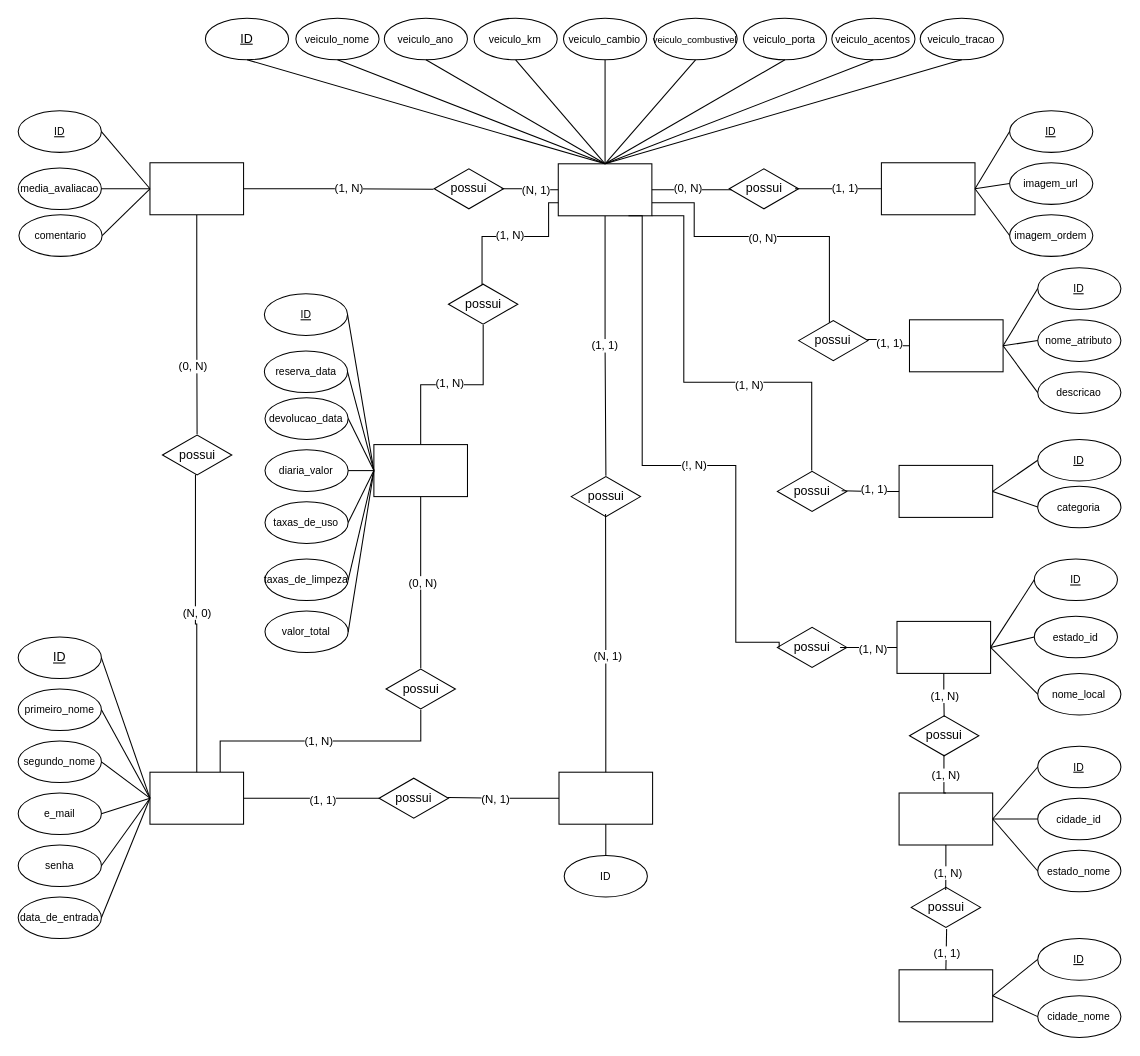
Some shapes in this 1140 by 1056 pixel diagram are drawn without their labels. The shapes that lost their labels are listed below. From the top down, each one's box as (x1, y1, x2, y2) in pixels, then its label:
(149, 162, 244, 215): review_usuario
(557, 163, 652, 216): Veiculo
(880, 162, 975, 215): imagem
(908, 319, 1003, 372): atributo_veiculos
(373, 444, 467, 497): reserva
(898, 464, 993, 517): categoria_veiculo
(896, 620, 991, 673): local
(149, 771, 244, 824): Conta_usuario
(558, 771, 653, 824): dono
(898, 792, 993, 845): estado
(898, 969, 993, 1022): cidade
